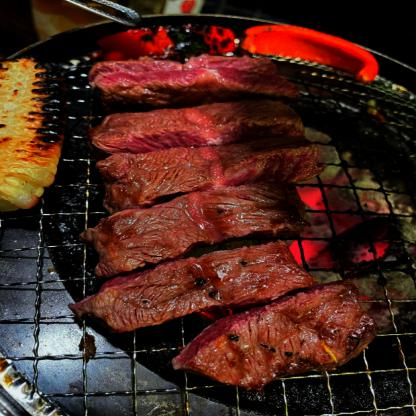Carne: (179, 282, 393, 388), (82, 245, 322, 330), (86, 186, 318, 260), (84, 141, 344, 193), (80, 99, 313, 156), (82, 57, 318, 106)
